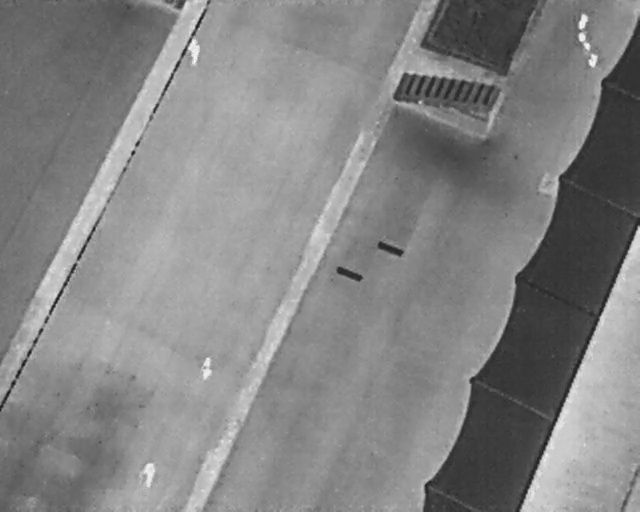Person: (141, 461, 157, 488), (187, 37, 201, 66), (201, 356, 212, 382)
